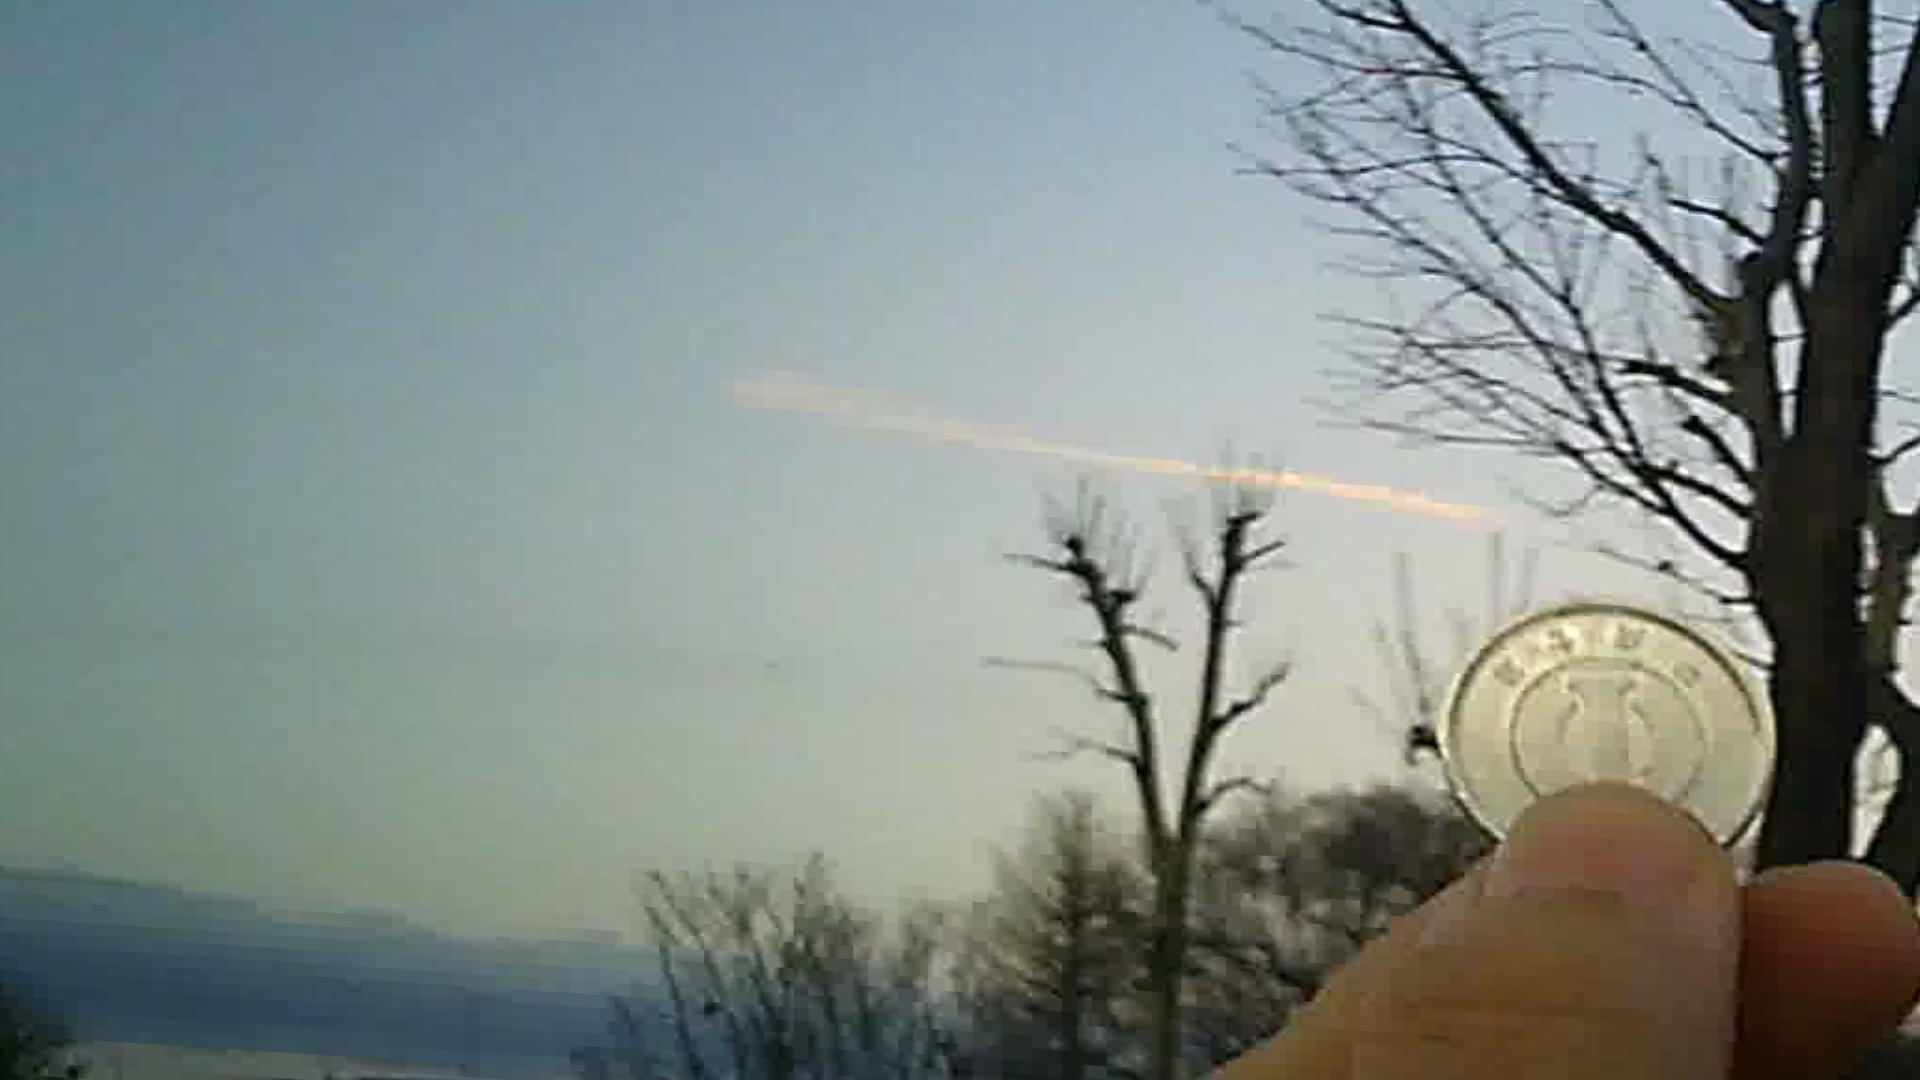1 Yen: (1437, 593, 1807, 895)
